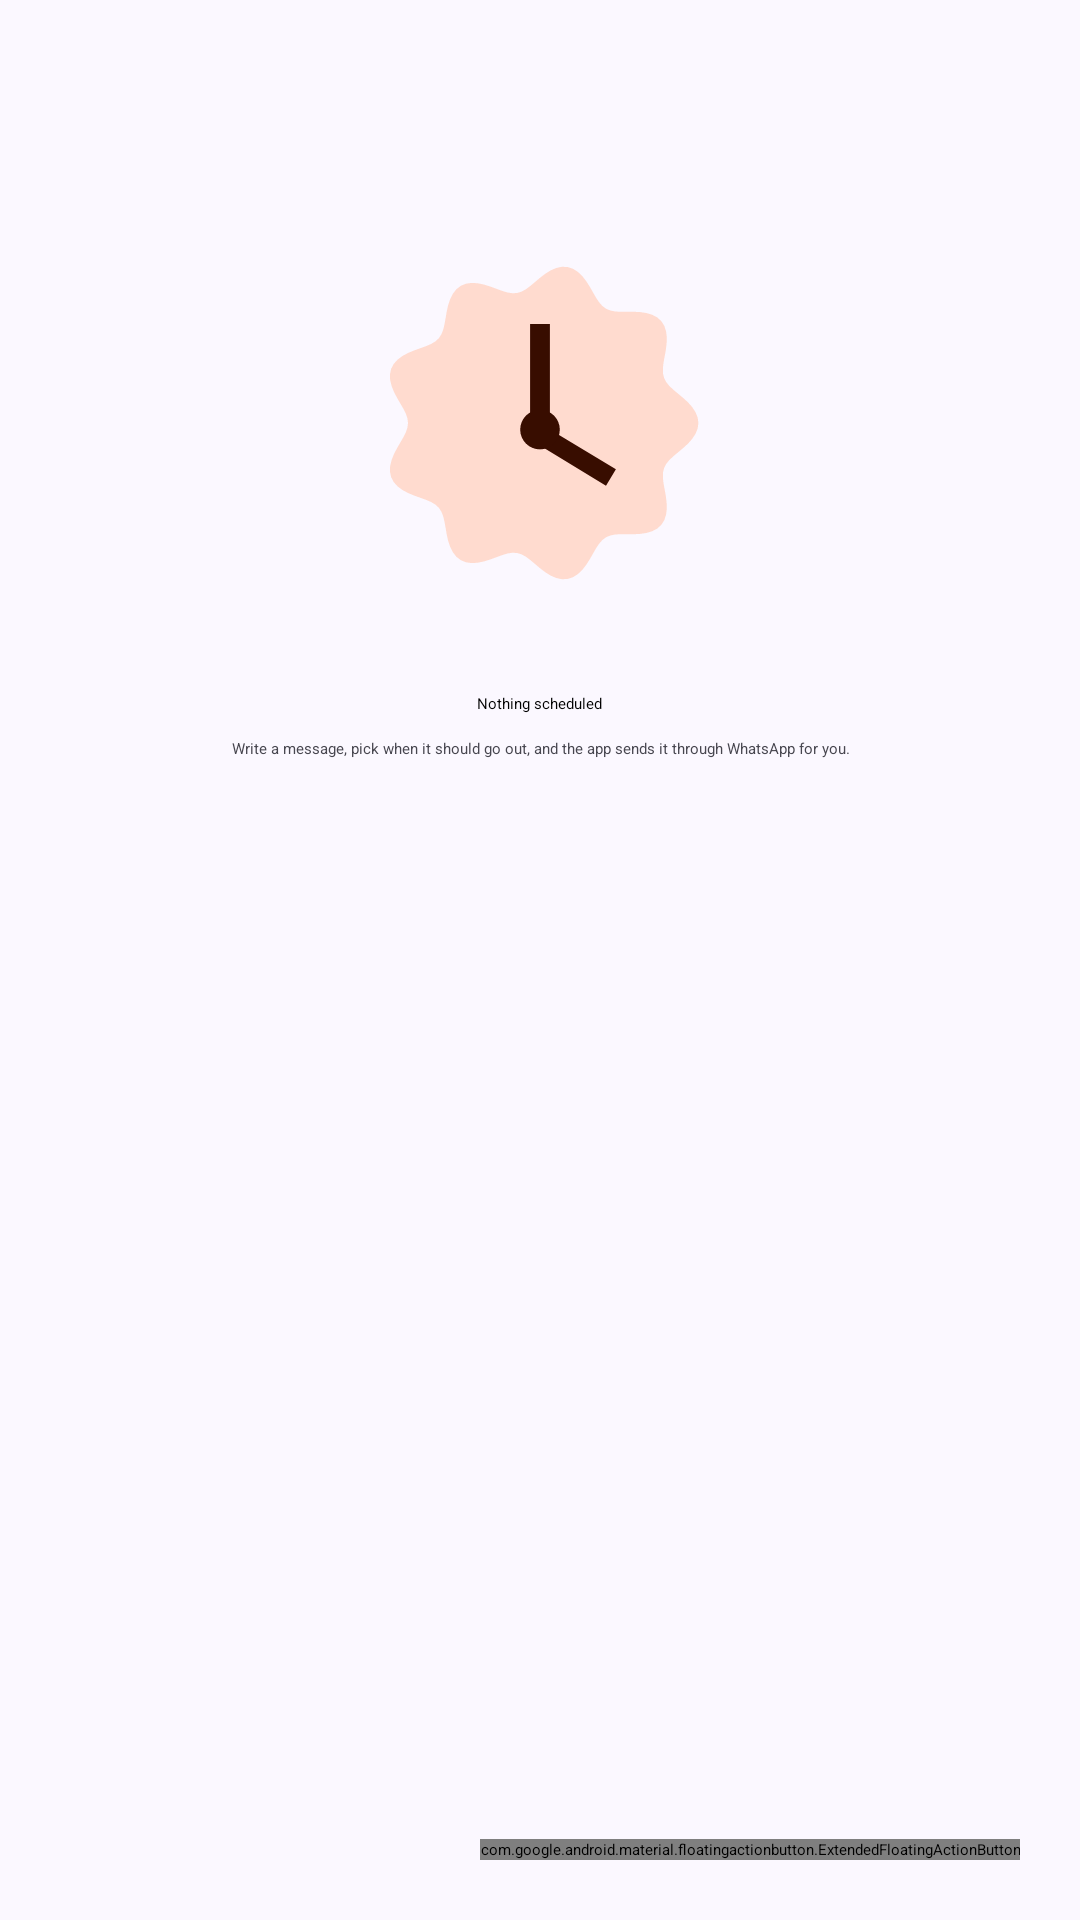

Icon bounding boxes for this 1080px x 1920px phone screenshot, format (x1, y1, x2, y2):
empty schedule: (390, 267, 698, 579)
